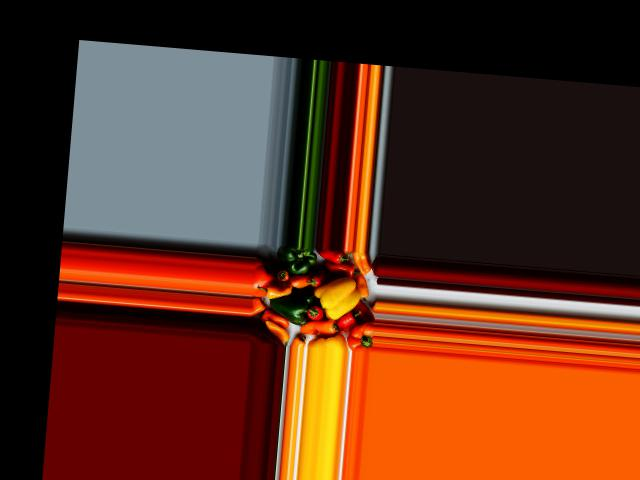bell_pepper: (318, 248, 351, 268)
